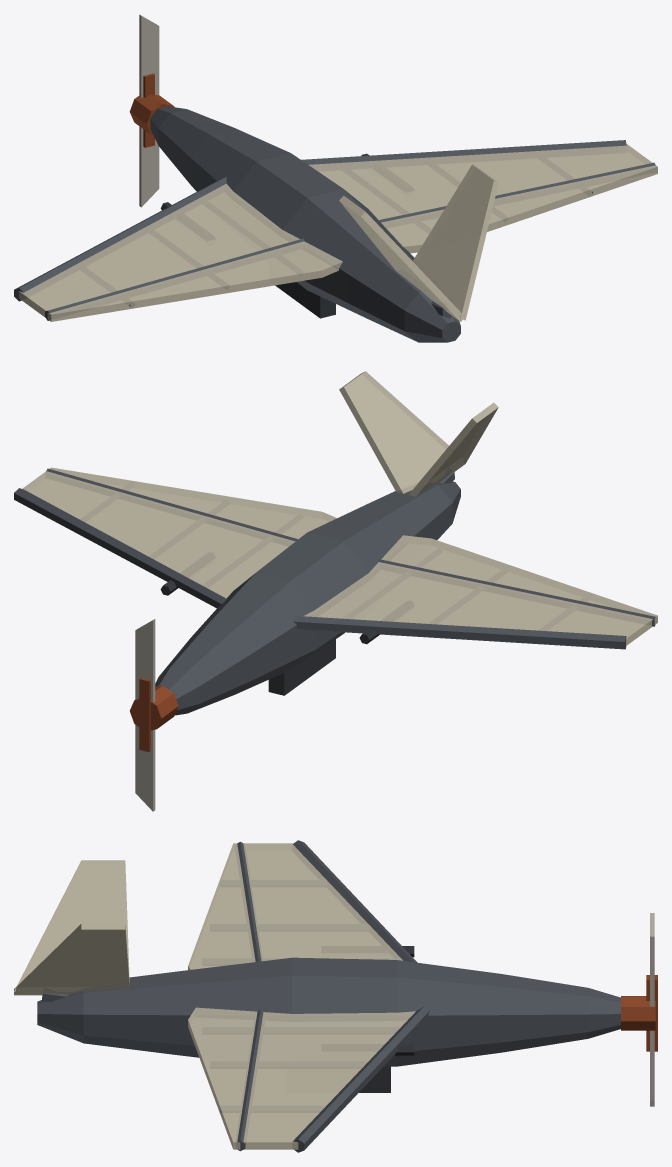
The model's file is fighter_combine.glb.
3 views of the same model, one above another, from view 1: azimuth 30°, elevation 25°; view 2: azimuth 150°, elevation 25°; view 3: azimuth 270°, elevation 25° (orthographic).
Parts seen in each view (by area): view 1: fighter_combine_body, fighter_combine_prop; view 2: fighter_combine_body, fighter_combine_prop; view 3: fighter_combine_body, fighter_combine_prop.
Part boxes in pixels (x1=…): fighter_combine_body: x1=14, y1=94, x2=657, y2=342; fighter_combine_prop: x1=139, y1=14, x2=159, y2=207; fighter_combine_body: x1=14, y1=371, x2=657, y2=730; fighter_combine_prop: x1=135, y1=619, x2=155, y2=811; fighter_combine_body: x1=14, y1=840, x2=655, y2=1152; fighter_combine_prop: x1=646, y1=913, x2=657, y2=1106.
Size of the model in its own units: 6.14 by 2.07 by 5.55.
